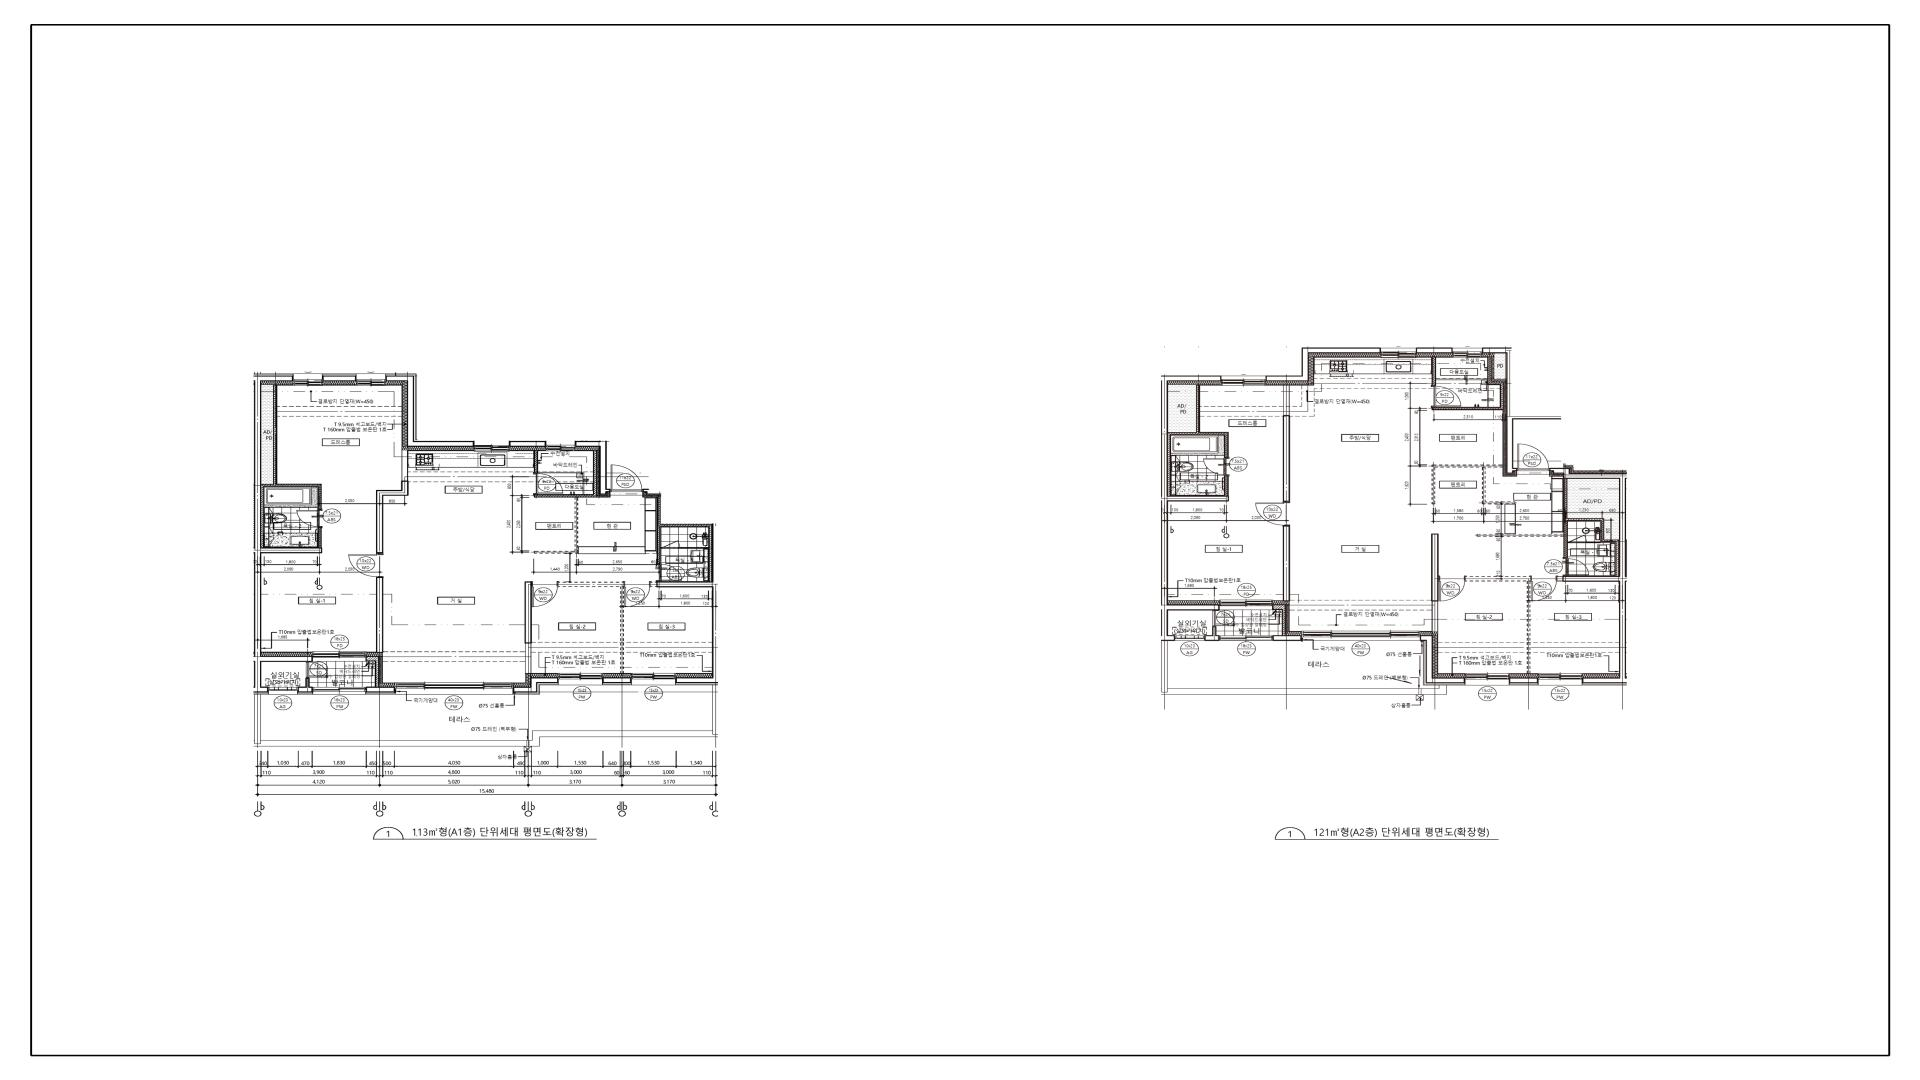door: (1518, 443, 1549, 471), (611, 464, 642, 492), (1255, 502, 1291, 526), (348, 554, 384, 578), (624, 582, 650, 608), (531, 582, 558, 608), (1431, 385, 1461, 407), (1531, 576, 1557, 601), (1439, 576, 1465, 601), (533, 473, 563, 495), (1563, 558, 1589, 576), (1203, 458, 1229, 476), (297, 509, 323, 527), (655, 564, 682, 582), (1212, 611, 1236, 626), (306, 662, 328, 678), (1568, 535, 1601, 543), (662, 541, 680, 549)
wall: (255, 376, 322, 692), (1160, 376, 1229, 641), (1549, 468, 1627, 683), (1482, 348, 1561, 473), (657, 524, 719, 683), (261, 385, 322, 547), (1168, 385, 1229, 496), (534, 450, 597, 554), (1465, 576, 1531, 674), (385, 376, 475, 447), (558, 582, 624, 674), (657, 497, 711, 582), (1266, 347, 1381, 381), (1432, 357, 1503, 410), (376, 450, 409, 554), (1432, 464, 1515, 505), (1567, 479, 1619, 539), (1420, 636, 1465, 683), (575, 440, 611, 495), (1283, 385, 1291, 502), (1431, 534, 1439, 632), (513, 678, 559, 692), (525, 582, 531, 674), (1283, 526, 1291, 601), (376, 578, 384, 653), (365, 657, 378, 687), (1273, 605, 1286, 636), (509, 440, 546, 447), (1204, 626, 1220, 641), (1477, 534, 1563, 537), (298, 678, 313, 692), (1416, 348, 1453, 353), (323, 376, 356, 381), (365, 687, 396, 692), (1509, 678, 1539, 683), (603, 678, 632, 683), (1273, 636, 1302, 641), (1431, 357, 1436, 385), (1224, 476, 1229, 496), (534, 450, 538, 473), (318, 527, 322, 547), (650, 582, 657, 587), (1557, 576, 1563, 582)
window: (396, 683, 513, 695), (1302, 632, 1420, 641), (1538, 674, 1582, 688), (632, 673, 675, 686), (1465, 674, 1509, 687), (559, 673, 603, 686), (1220, 600, 1273, 611), (313, 651, 365, 662), (313, 687, 365, 695), (475, 440, 509, 452), (293, 373, 323, 386), (356, 373, 385, 386), (546, 440, 575, 451), (1220, 636, 1273, 641), (1221, 376, 1266, 381), (269, 687, 298, 695), (1381, 348, 1416, 353), (1453, 348, 1482, 353), (1175, 636, 1204, 641)
